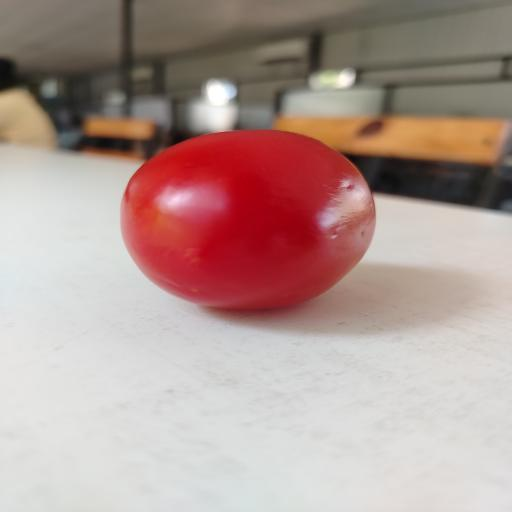ripe: (121, 130, 375, 308)
